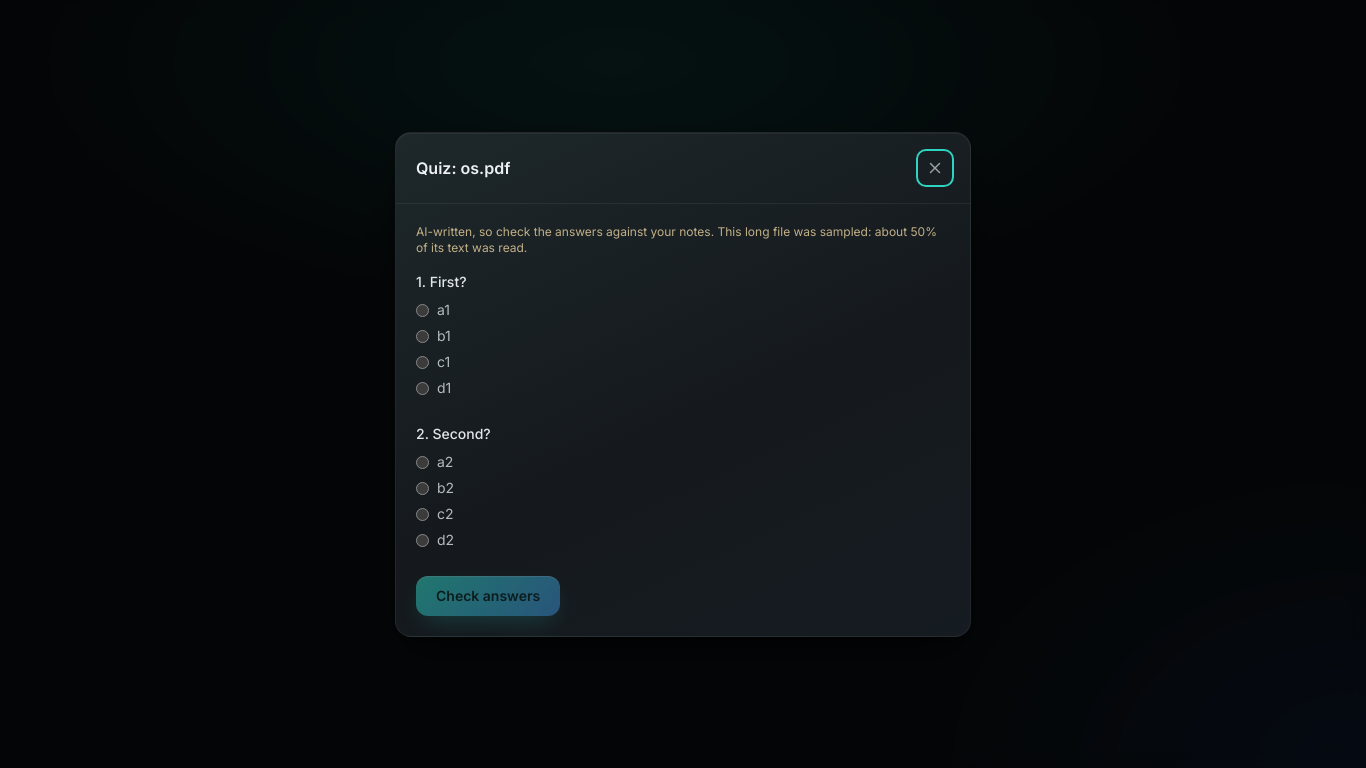
Test: quiz popup › scores the answers after all are picked and says how much of a long file was read
Step 1. Click the radio button labelled "a1" → (422, 310), box [416,304,429,316]
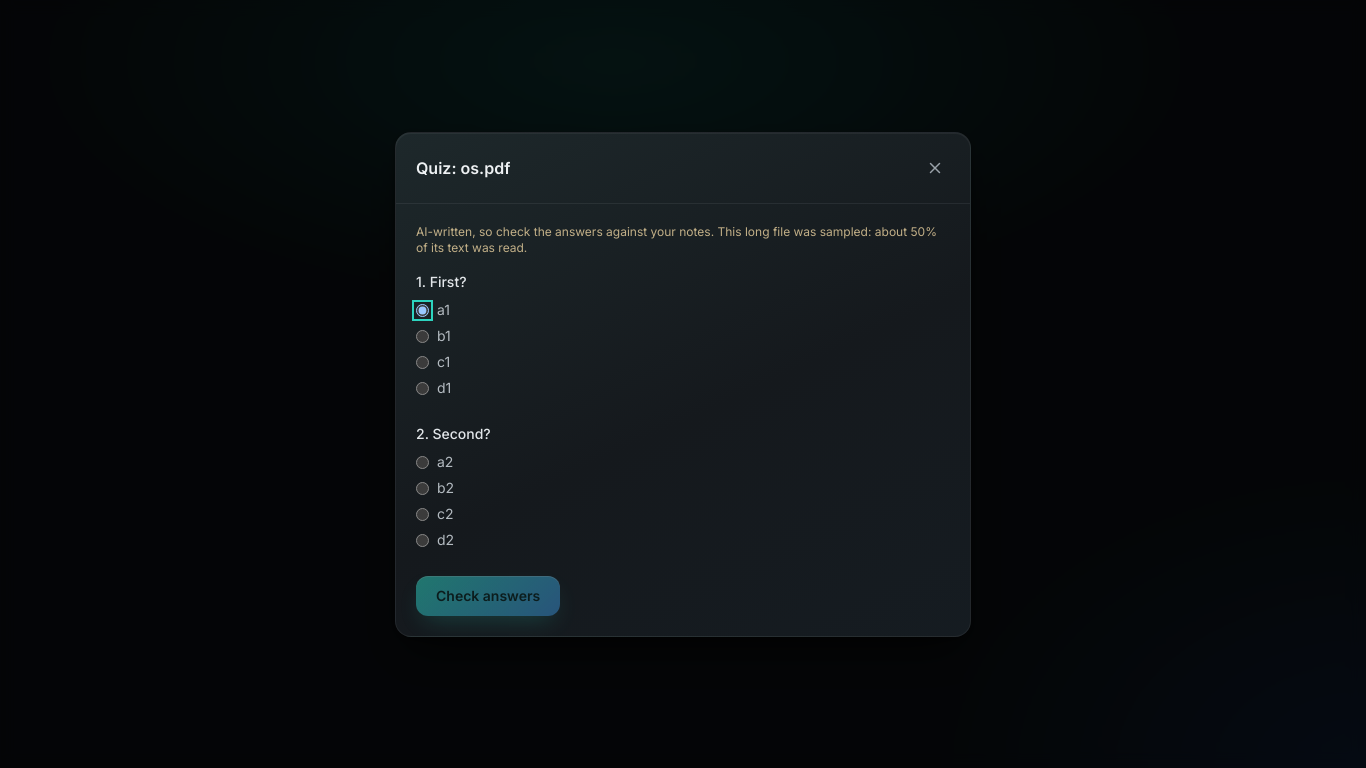
Expected: the button "Check answers" is disabled, [416,576,560,616]
Step 2. Click the radio button labelled "a2" → (422, 462), box [416,456,429,468]
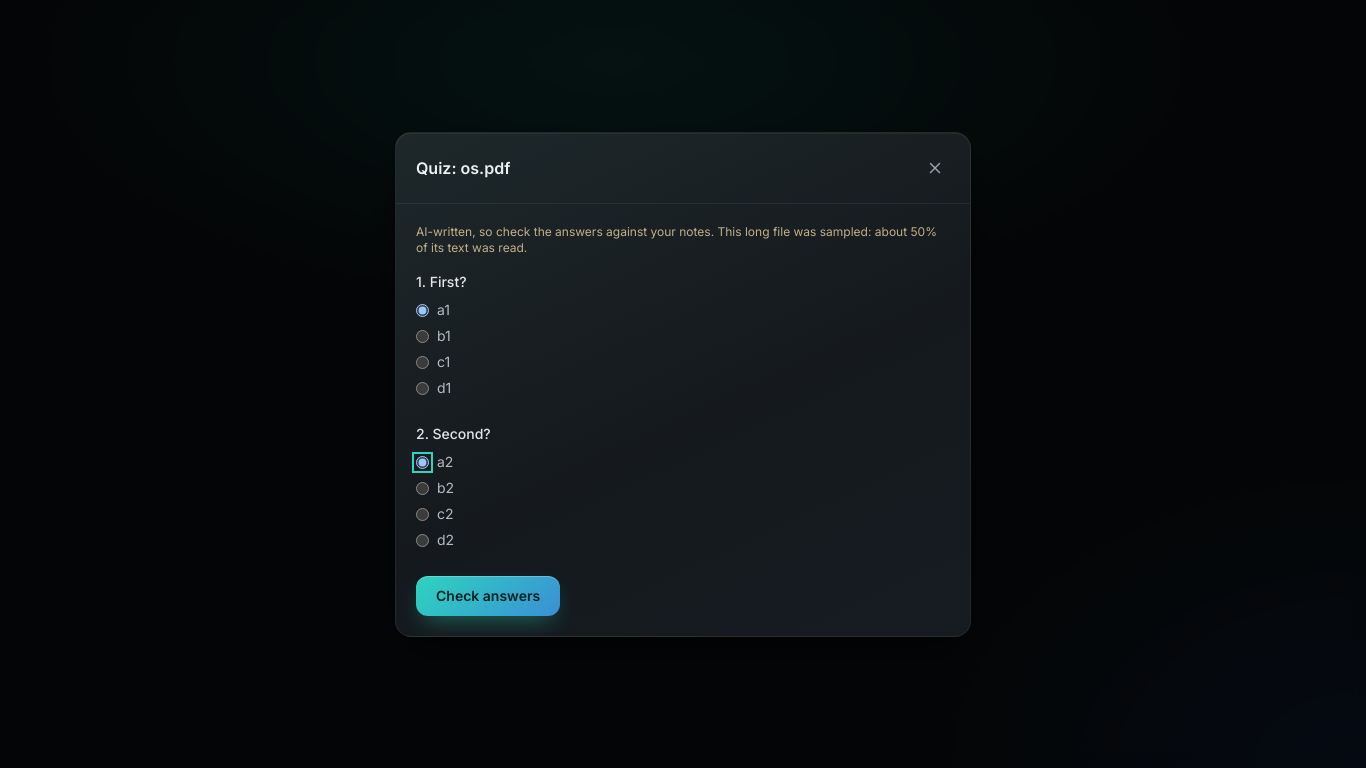
Step 3. Click the button "Check answers" → (488, 596), box [416,576,560,616]
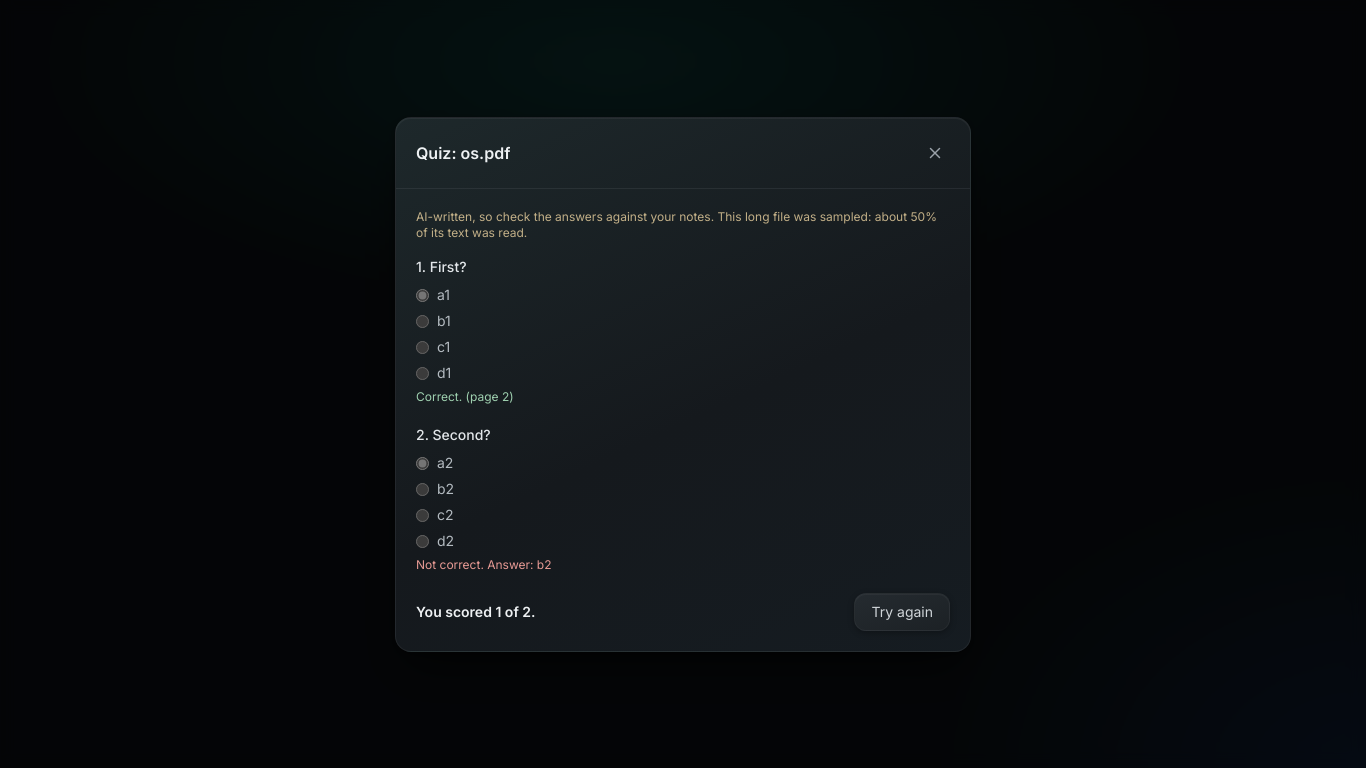
Expected: the text "about 50% of its text" is shown, [416,208,937,240]
Now the text "You scored 1 of 2." is shown, box [416,602,536,622]
Now the text "Not correct. Answer: b2" is shown, box [416,556,552,572]
